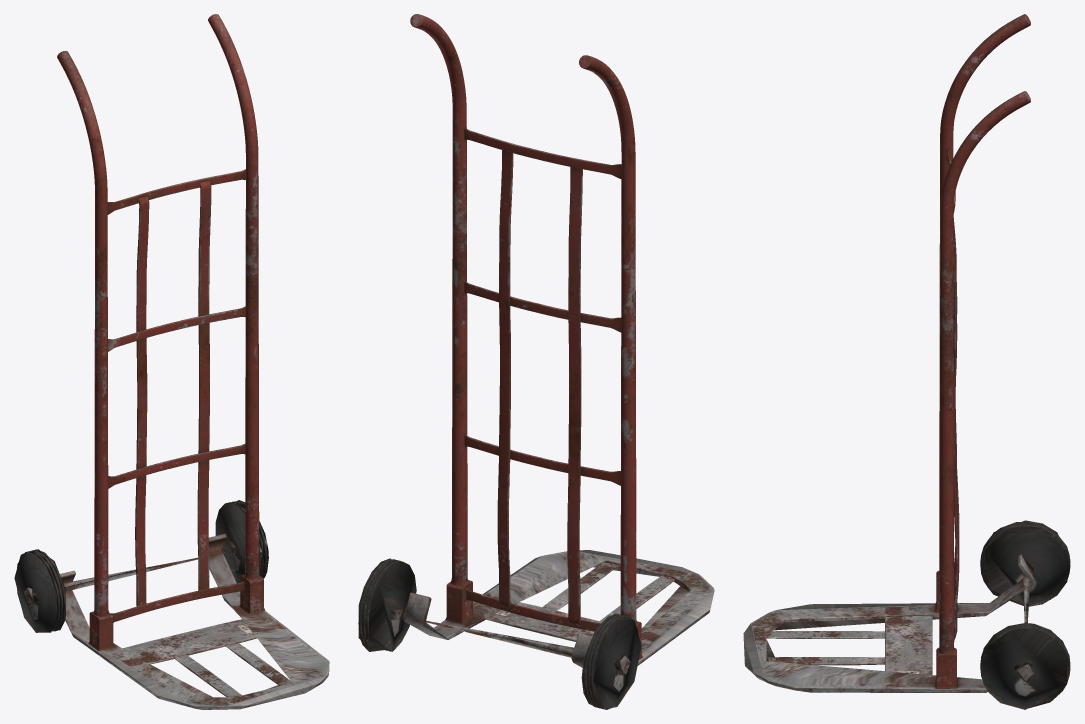
File: hand_truck.glb
3 views of the same model, side by side, from view 1: azimuth 30°, elevation 25°; view 2: azimuth 150°, elevation 25°; view 3: azimuth 270°, elevation 25° (orthographic). The views are drawn at different scales.
Parts seen in each view (by area): view 1: hand_truck; view 2: hand_truck; view 3: hand_truck.
Boxes of the visible parts, left/top/right/bottom form: hand_truck: left=14, top=14, right=329, bottom=709; hand_truck: left=358, top=14, right=714, bottom=709; hand_truck: left=743, top=14, right=1070, bottom=709.
Size of the model in its own units: 0.5789 by 1.4 by 0.6908.
1 material, 1 textured.
